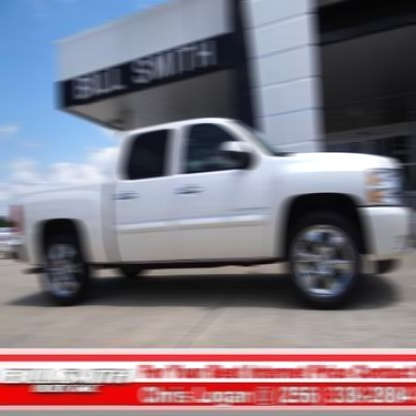Vehicle: (11, 114, 415, 312)
